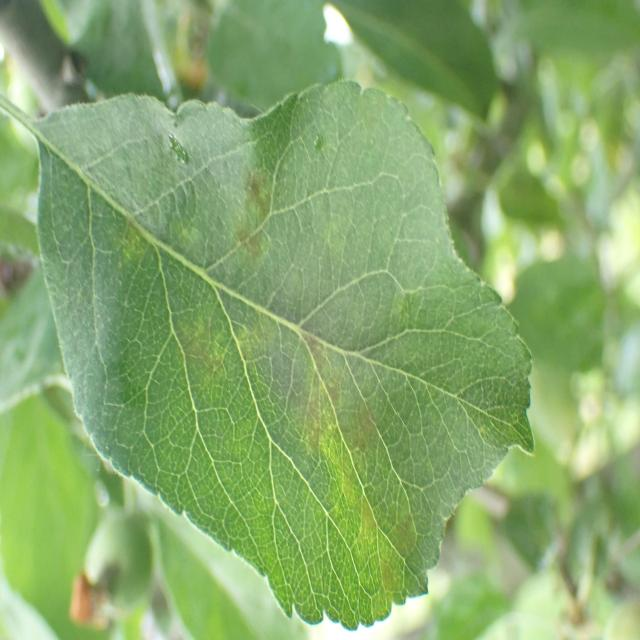scab: (59, 87, 502, 608)
